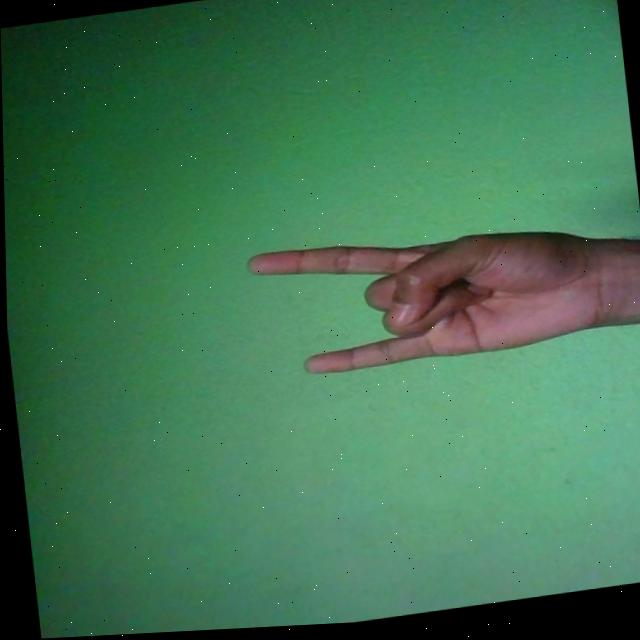Rock On: (243, 210, 617, 386)
